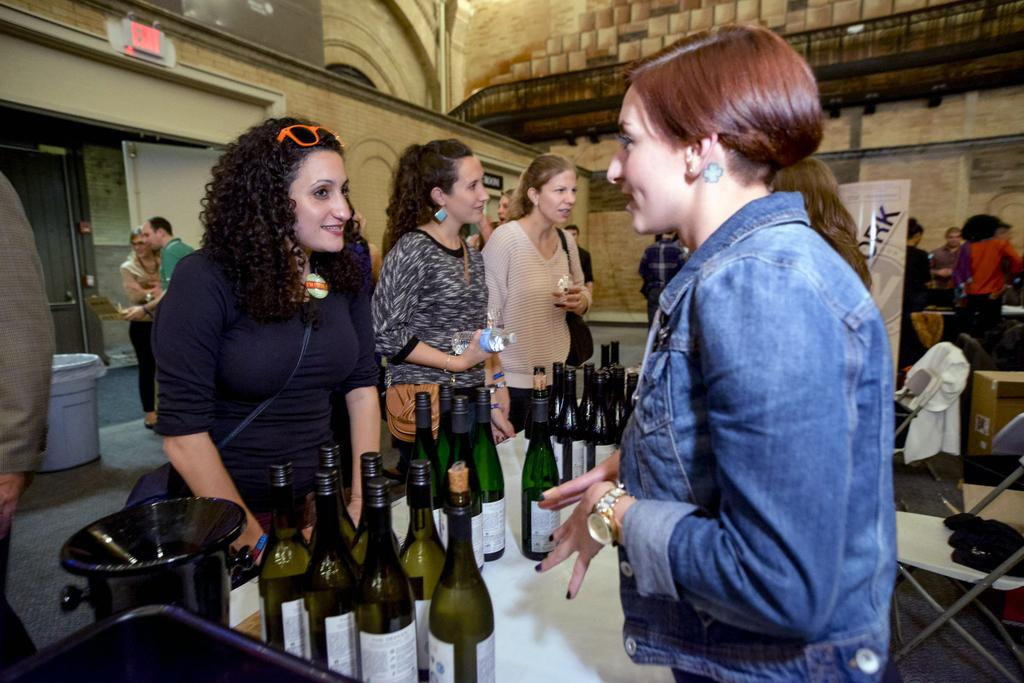Sem Máscara: (603, 87, 683, 232), (289, 151, 348, 250), (443, 160, 484, 219), (538, 175, 575, 221)
